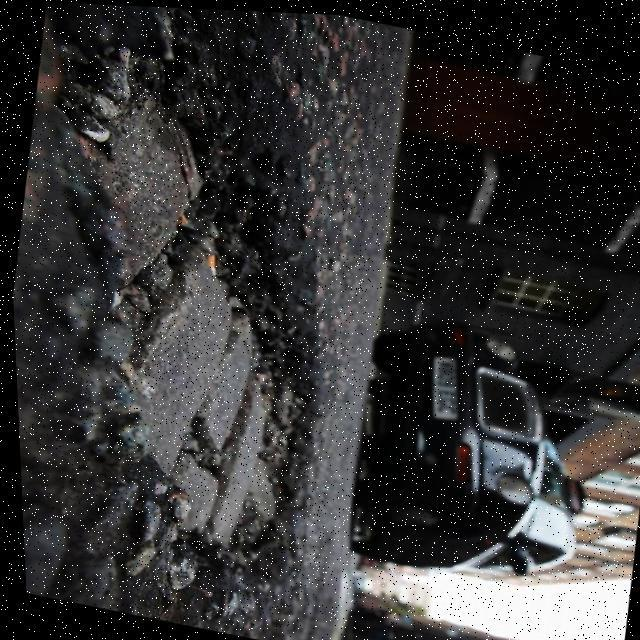pothole: (2, 38, 380, 605)
